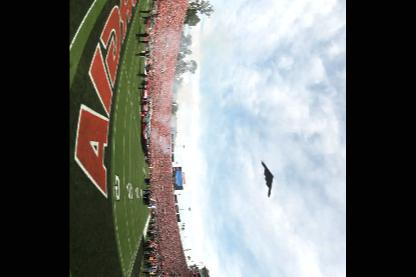B1: (262, 160, 274, 198)
